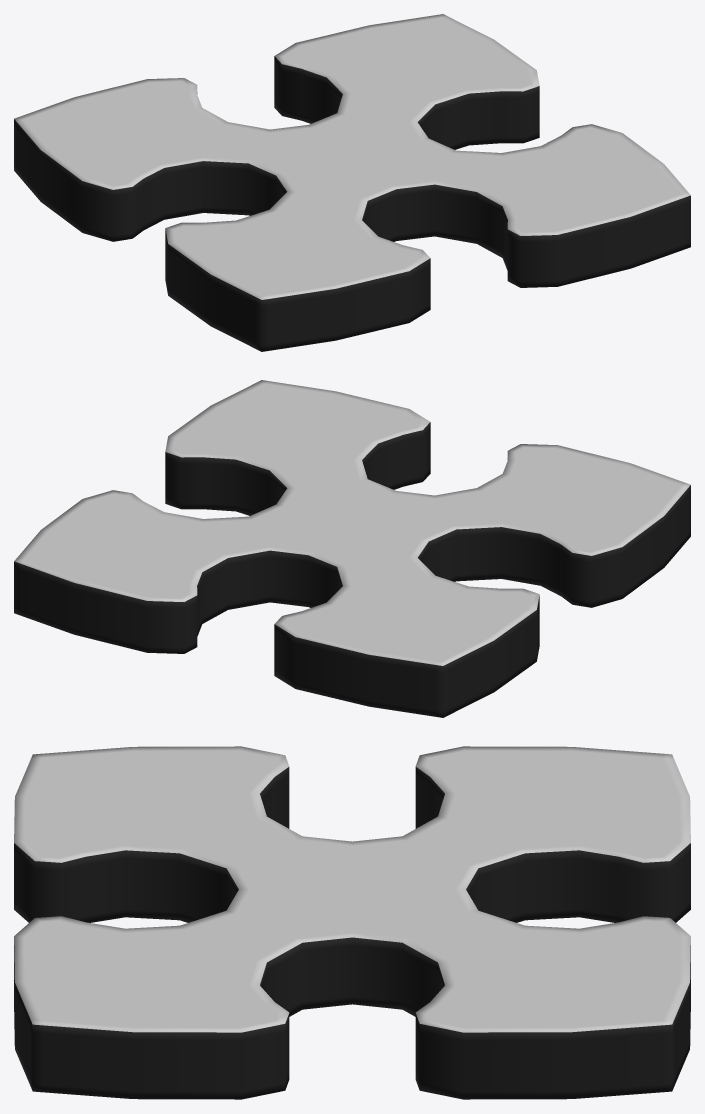
Rendered from puzzle26.fbx.
3 renders of one model, top to bottom at view 1: azimuth 30°, elevation 25°; view 2: azimuth 150°, elevation 25°; view 3: azimuth 270°, elevation 25°, orthographic. The views are drawn at different scales.
Visible parts, largest first — view 1: puzzle26; view 2: puzzle26; view 3: puzzle26.
Part boxes in pixels (left/top/right/bottom): puzzle26: left=14, top=14, right=690, bottom=351; puzzle26: left=14, top=380, right=690, bottom=717; puzzle26: left=14, top=746, right=690, bottom=1099.
Size of the model in its own units: 3.15 by 0.344 by 3.15.
